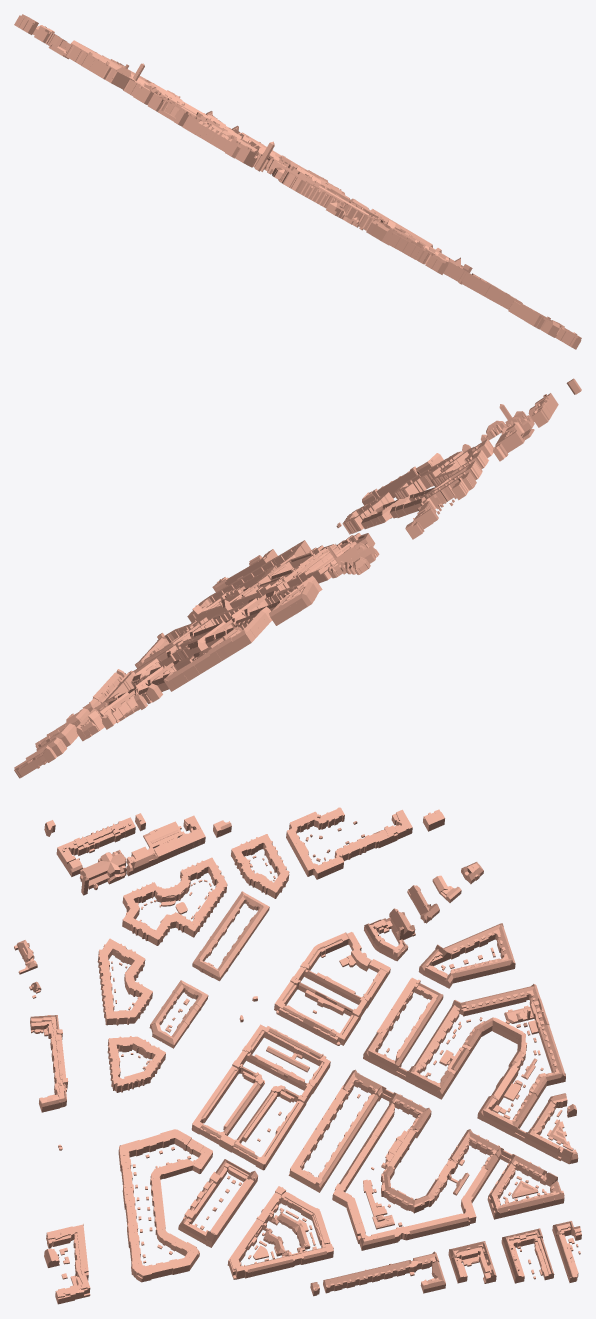
3 views of the same model, one above another, from view 1: azimuth 30°, elevation 25°; view 2: azimuth 150°, elevation 25°; view 3: azimuth 270°, elevation 25° (orthographic). The views are drawn at different scales.
Bounding box in the file's own units: 1.72e+07 × 1.27e+07 × 2.11e+07.
